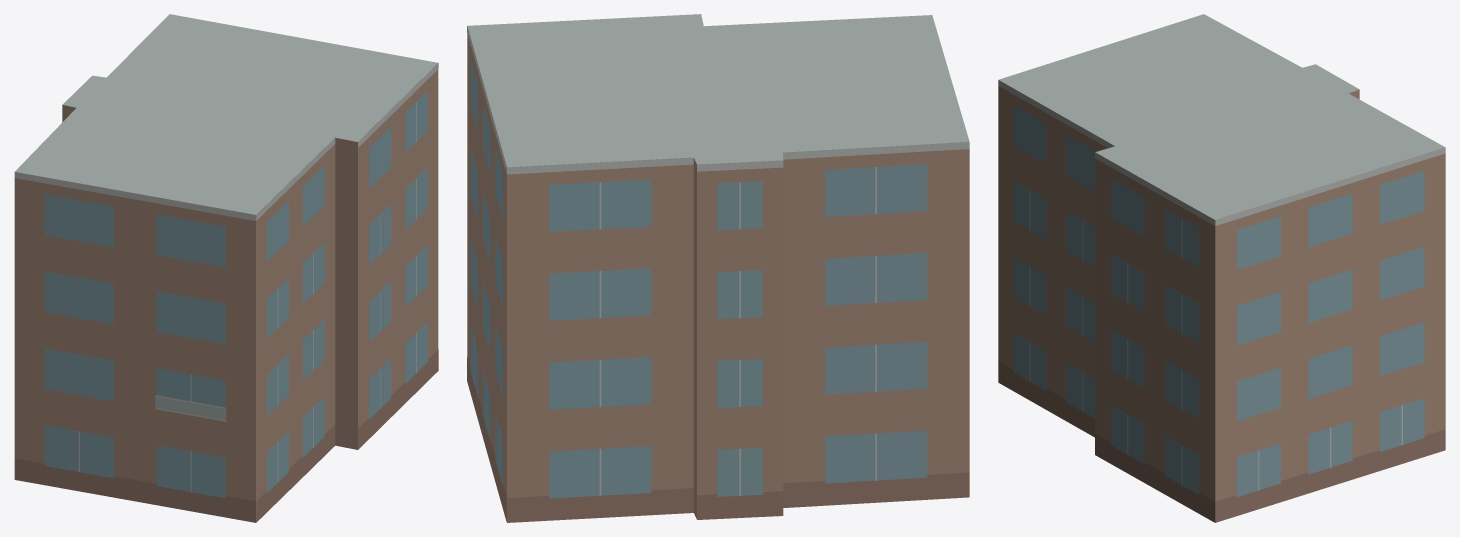
The model's file is survey-upis-32637329.glb.
3 views of the same model, side by side, from view 1: azimuth 30°, elevation 25°; view 2: azimuth 150°, elevation 25°; view 3: azimuth 270°, elevation 25° (orthographic). The views are drawn at different scales.
Visible parts, largest first — view 1: survey-upis-32637329.tmp; view 2: survey-upis-32637329.tmp; view 3: survey-upis-32637329.tmp.
Part boxes in pixels (box(x1,y1,x2,y2)): survey-upis-32637329.tmp: box(14, 14, 438, 522); survey-upis-32637329.tmp: box(467, 14, 969, 522); survey-upis-32637329.tmp: box(998, 14, 1445, 522).
Bounding box in the file's own units: 17.82 × 12.2 × 16.35.
